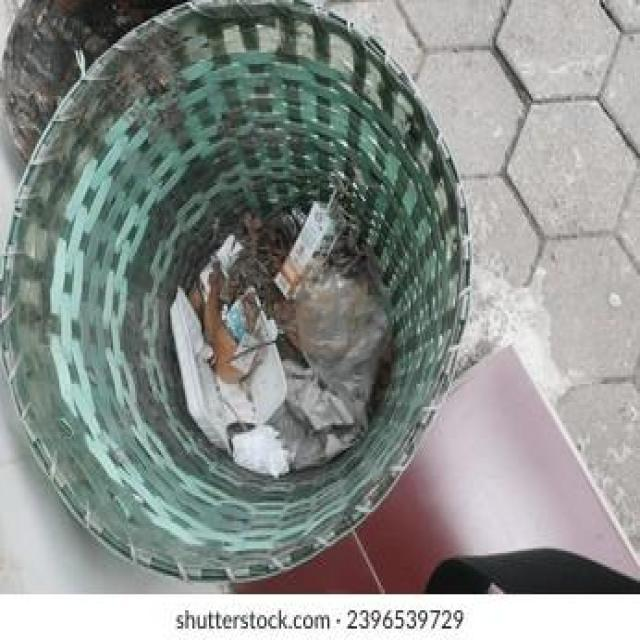Garbage: (163, 183, 392, 491)
contaminated_waste: (293, 267, 394, 408)
